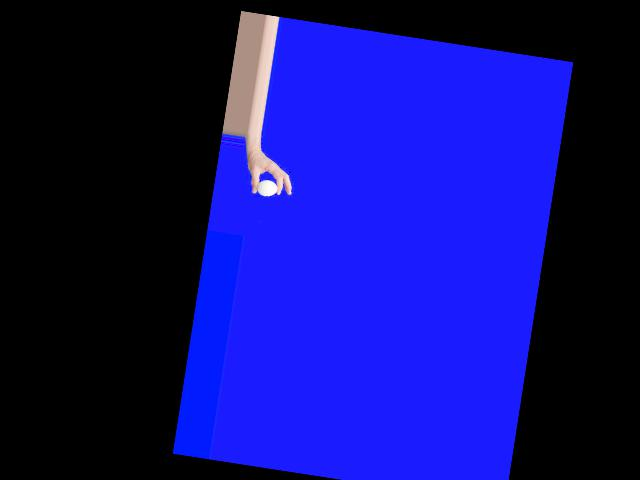egg: (255, 178, 278, 198)
